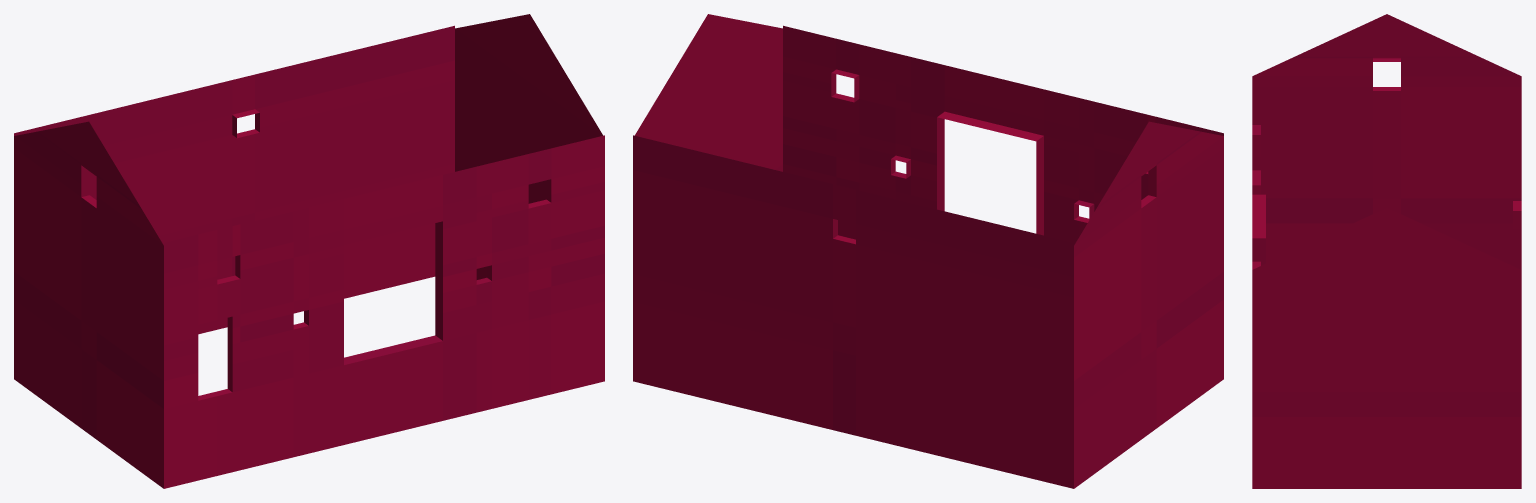
The model's file is SM_Bld_007_Masonry.glb.
3 views of the same model, side by side, from view 1: azimuth 30°, elevation 25°; view 2: azimuth 150°, elevation 25°; view 3: azimuth 270°, elevation 25° (orthographic). The views are drawn at different scales.
Parts seen in each view (by area): view 1: SM_Bld_007_Masonry; view 2: SM_Bld_007_Masonry; view 3: SM_Bld_007_Masonry.
Part boxes in pixels (<box>): SM_Bld_007_Masonry: <box>14,14,604,488</box>; SM_Bld_007_Masonry: <box>633,14,1223,488</box>; SM_Bld_007_Masonry: <box>1252,14,1521,488</box>.
Size of the model in its own units: 11.56 by 7.83 by 6.8.
